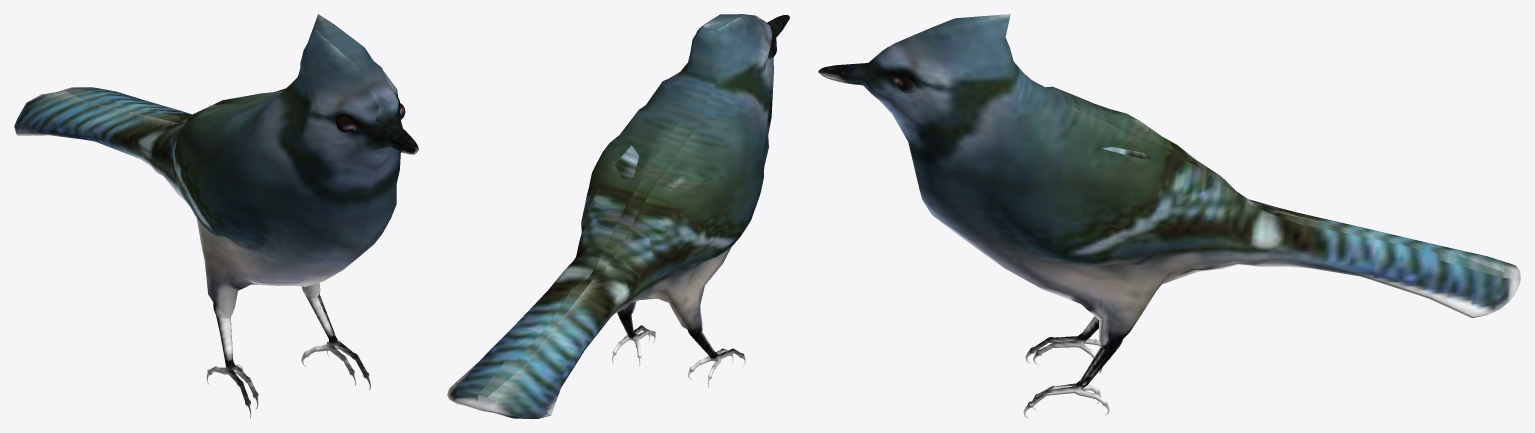
File: bird4.dae
3 renders of one model, left to right at view 1: azimuth 30°, elevation 25°; view 2: azimuth 150°, elevation 25°; view 3: azimuth 270°, elevation 25°, orthographic. The views are drawn at different scales.
Parts seen in each view (by area): view 1: bluj_body; view 2: bluj_body; view 3: bluj_body.
Boxes of the visible parts, bbox=[...] form: bluj_body: bbox=[14, 14, 418, 418]; bluj_body: bbox=[447, 14, 789, 418]; bluj_body: bbox=[818, 14, 1520, 418].
Size of the model in its own units: 0.3957 by 1.53 by 0.9104.
1 material, 1 textured.
